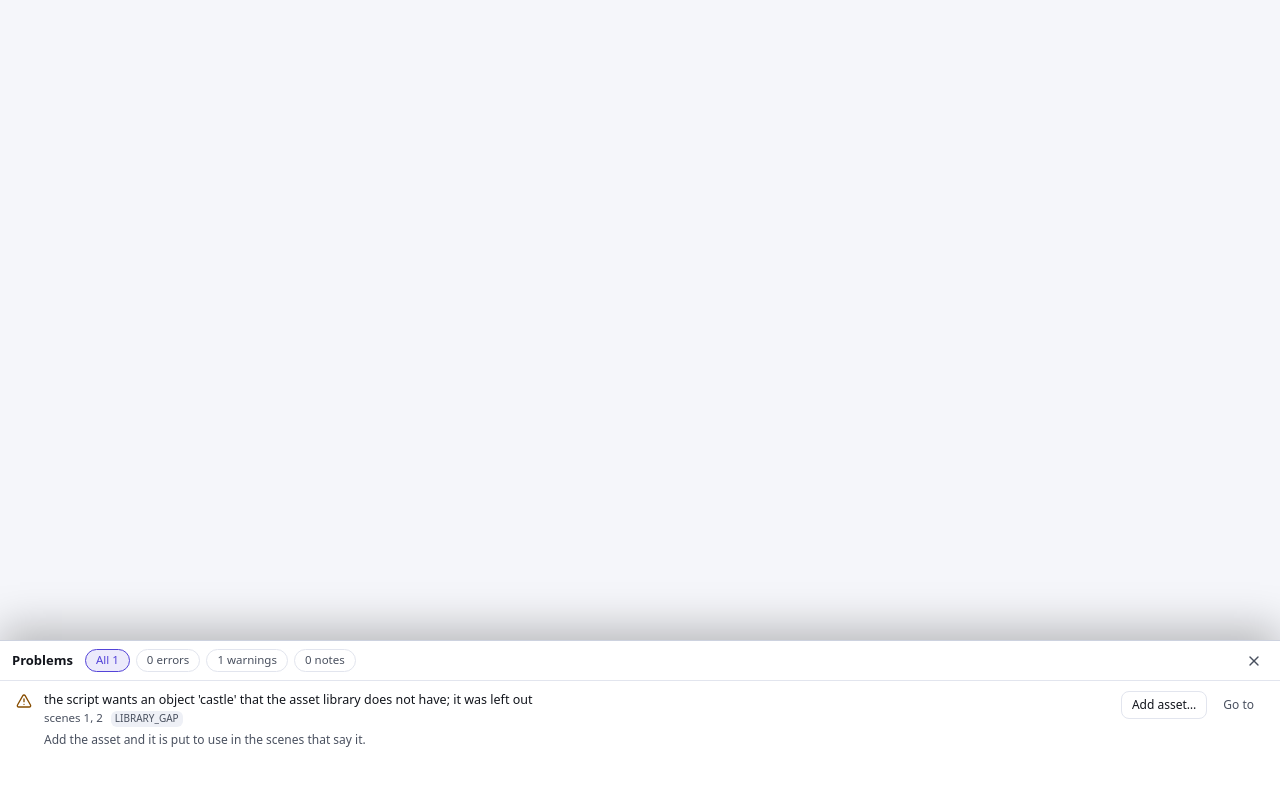
it: the Studio shows the warning wherever you are › turns the note in Problems into a warning with the way to add it
Expected: the icon named "warning" is shown, [16,693,32,709]
Expected: the text "Add the asset and it is put to use in the scenes that say it" is shown, [44,731,366,748]
Click the button "Add asset…".
click(1164, 705)  # box [1121,691,1207,719]
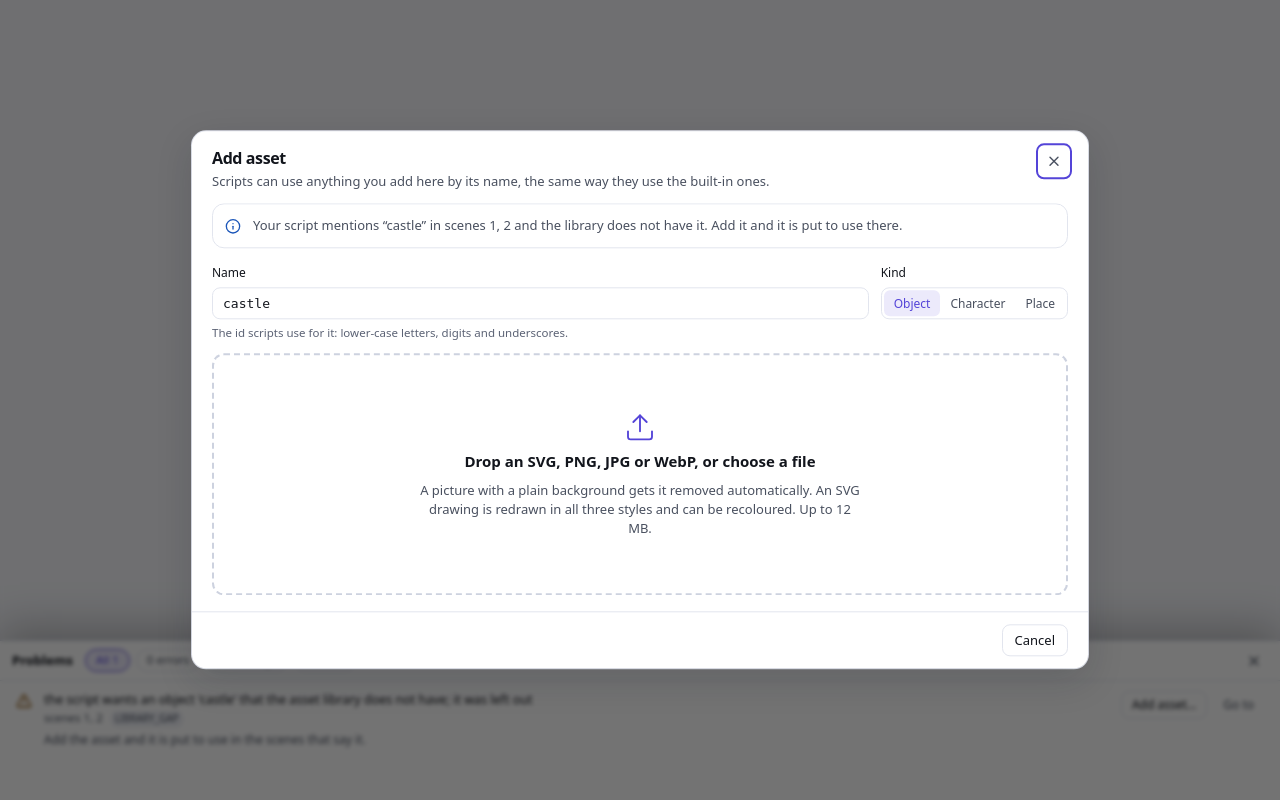
Now the text "Your script mentions “castle” in scenes 1, 2" is shown, box [253,216,902,234]
